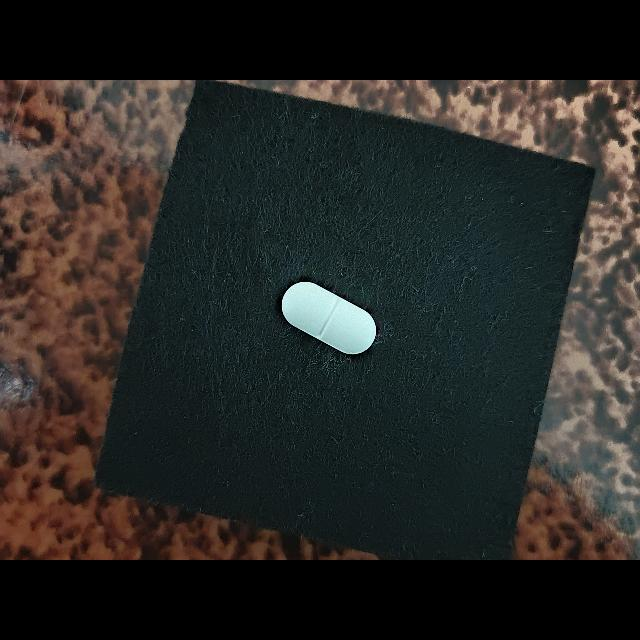Intact Pill: (281, 282, 376, 355)
